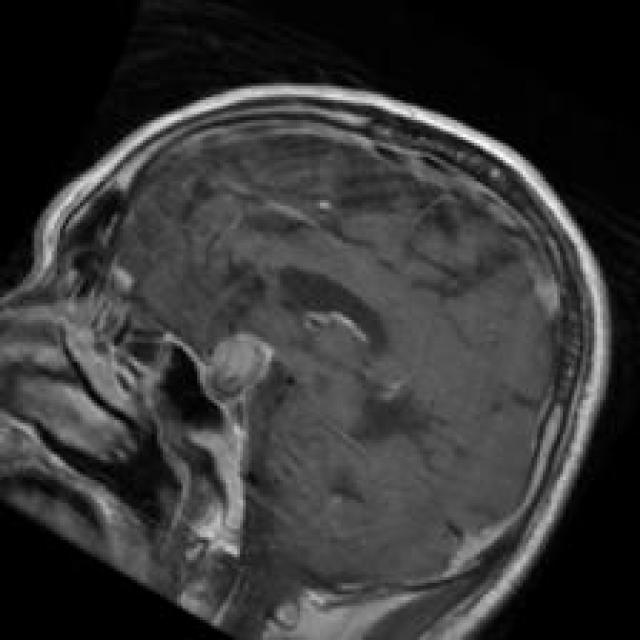pituitary_tumor: (188, 312, 288, 424)
